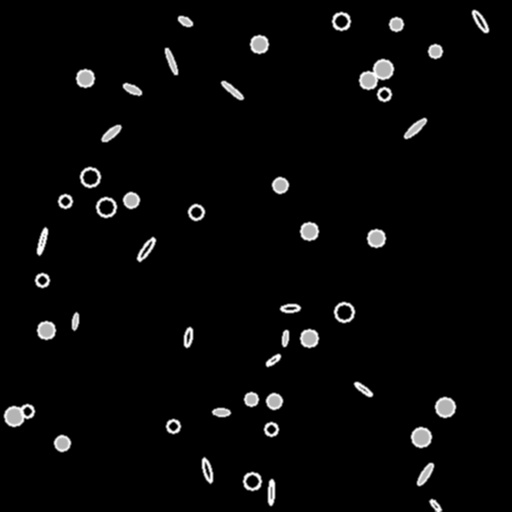pseudomonas: (135, 236, 157, 262), (403, 117, 427, 139), (415, 462, 435, 486), (220, 80, 244, 100), (100, 123, 122, 143), (471, 9, 489, 33), (164, 48, 178, 74), (200, 458, 214, 483), (353, 381, 373, 397), (36, 228, 48, 254), (122, 82, 142, 96), (265, 353, 281, 367), (428, 498, 442, 512), (177, 15, 193, 27), (184, 327, 192, 347), (268, 479, 274, 505), (281, 330, 289, 346), (71, 313, 79, 329), (281, 305, 299, 311), (213, 409, 229, 415)
synechocystis: (5, 407, 23, 425), (81, 168, 99, 186), (97, 198, 115, 216), (374, 60, 392, 78), (436, 398, 454, 416), (335, 303, 353, 321), (412, 428, 430, 446), (301, 330, 317, 346), (244, 473, 260, 489), (360, 72, 376, 88), (77, 70, 93, 86), (368, 230, 384, 246), (251, 36, 267, 52), (333, 13, 349, 29), (38, 322, 54, 338), (301, 223, 317, 239), (267, 394, 281, 408), (189, 205, 203, 219), (273, 178, 287, 192), (55, 436, 69, 450), (124, 193, 138, 207), (245, 393, 257, 405), (390, 18, 402, 30), (429, 45, 441, 57), (59, 195, 71, 207), (21, 405, 33, 417), (265, 423, 277, 435), (378, 88, 390, 100), (167, 420, 179, 432), (36, 274, 48, 286)
